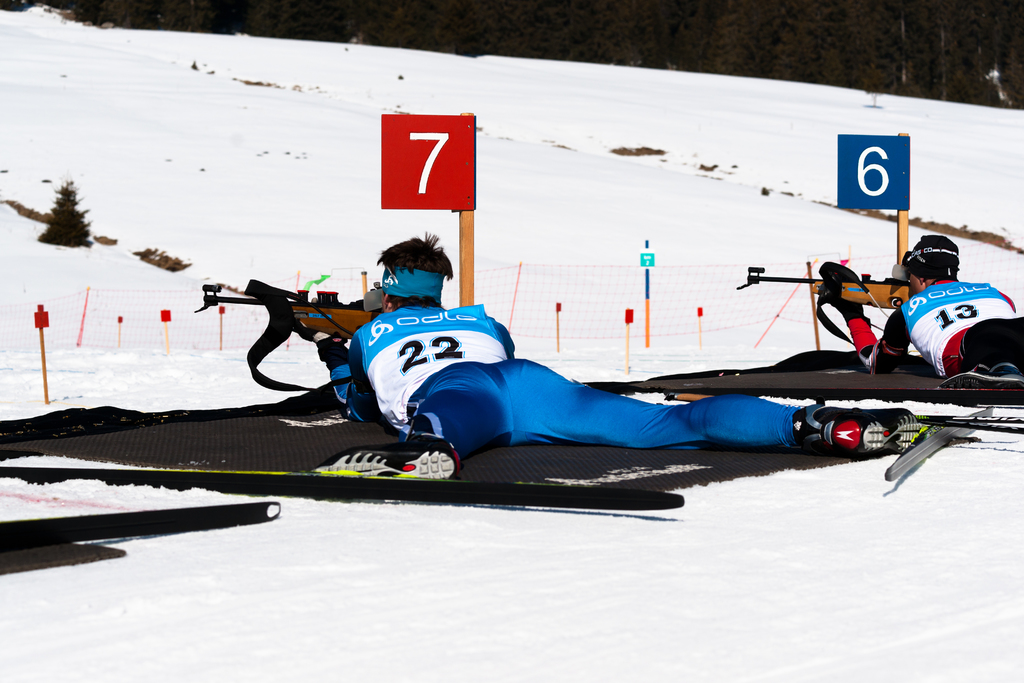Person: (291, 230, 928, 479), (817, 234, 1024, 389)
